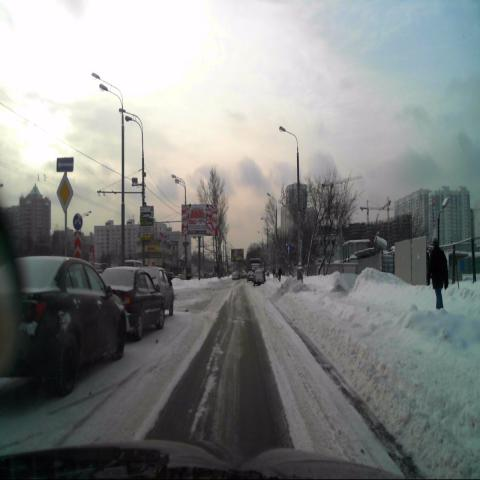5_7_2: (57, 156, 73, 173)
